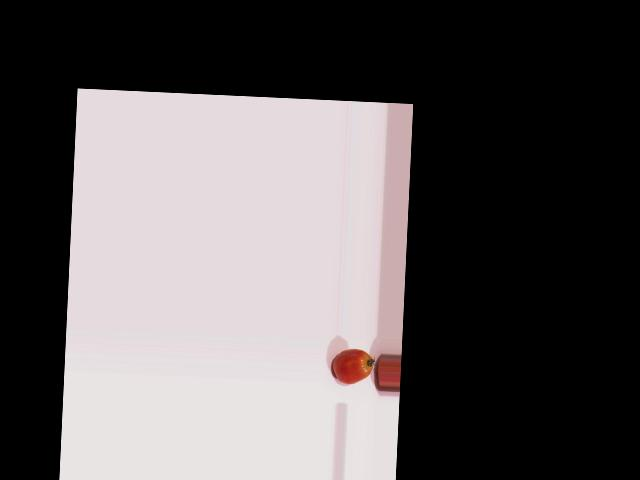tomato: (332, 348, 373, 385)
